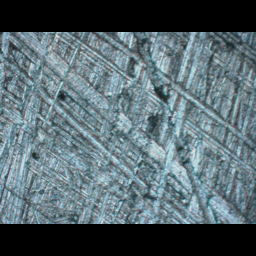d: (41, 31, 255, 220)
